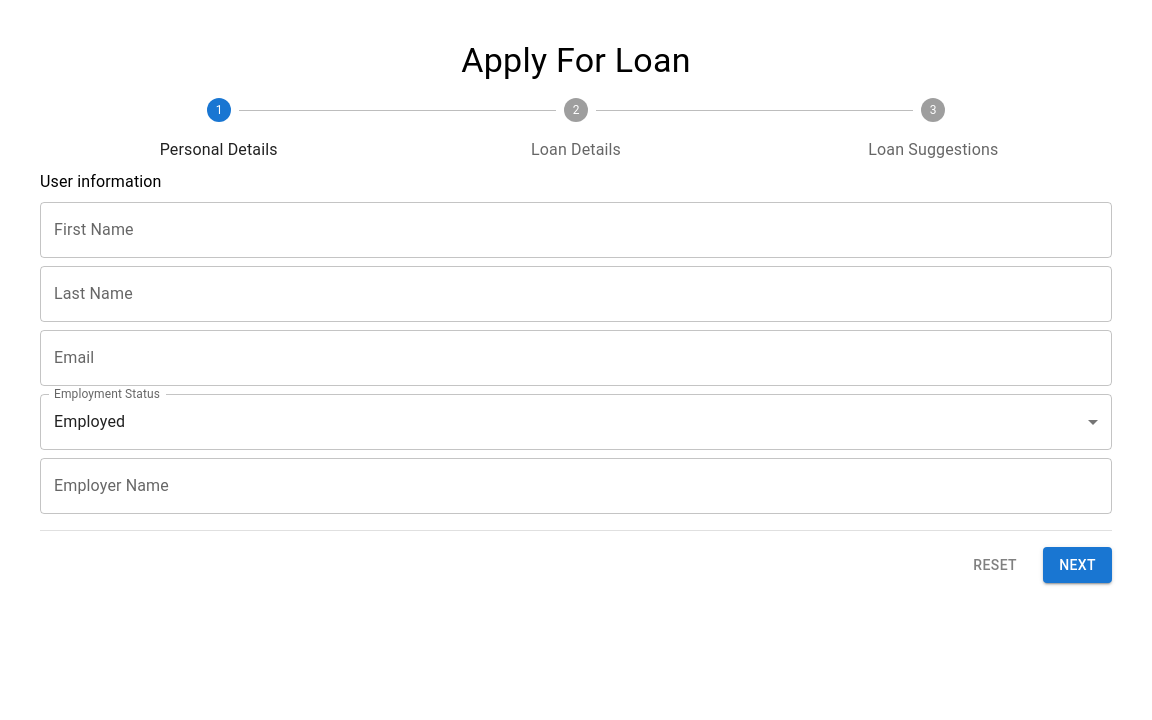
it: Personal Details Step › Shows validation errors
The width and height of the screenshot is (1152, 720).
Check: the text "User information" is shown, box [40,172,162,191]
Click the button "Next" at (1078, 566), box [1043,547,1112,584]
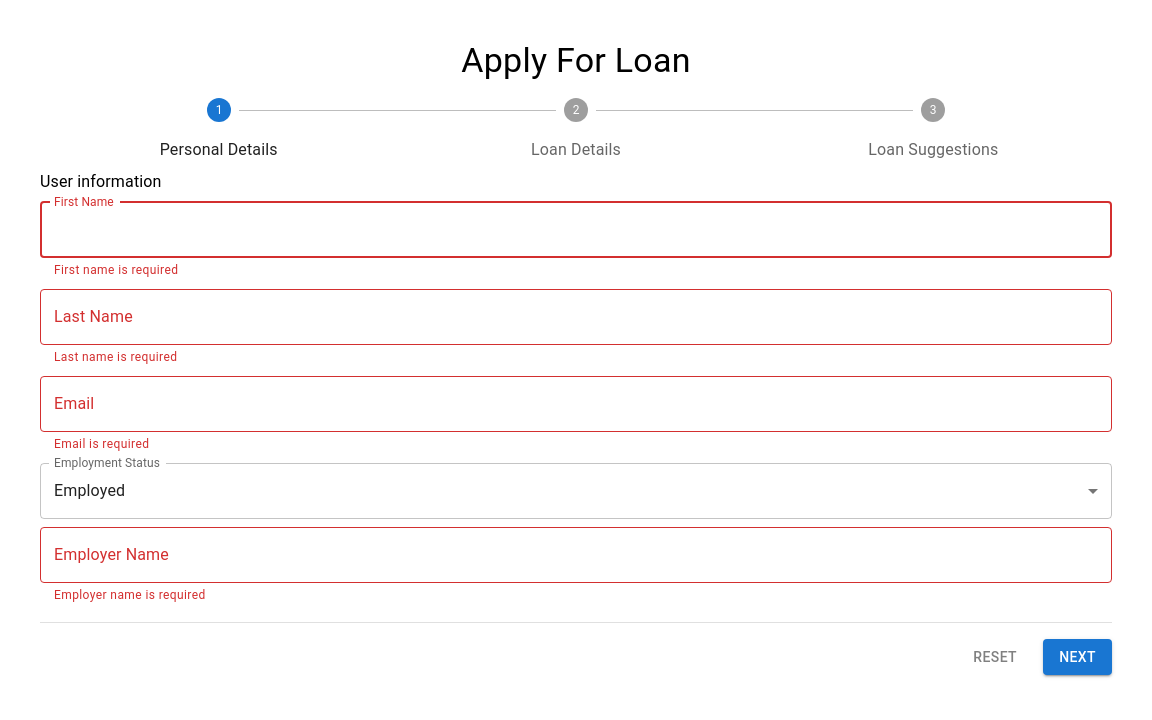
Check: the text "First name is required" is shown, box [54,263,178,277]
Check: the text "Last name is required" is shown, box [54,350,177,364]
Check: the text "Email is required" is shown, box [54,437,149,451]
